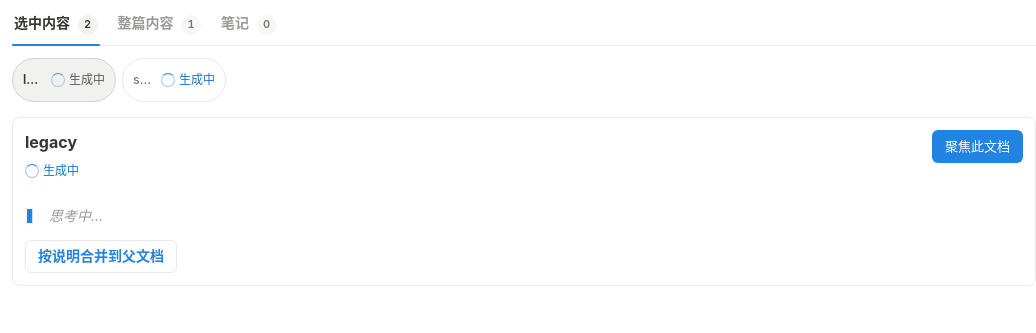
SubdocPanelTabs generation summary › separates direct selection, global, and legacy branches without showing descendants
Expected: the tab "选中内容 2" is shown, [12,12,100,45]
Expected: the tab "selection 生成中" is shown, [122,58,226,102]
Click the tab "整篇内容 1" at (159, 28), box [116,12,203,45]
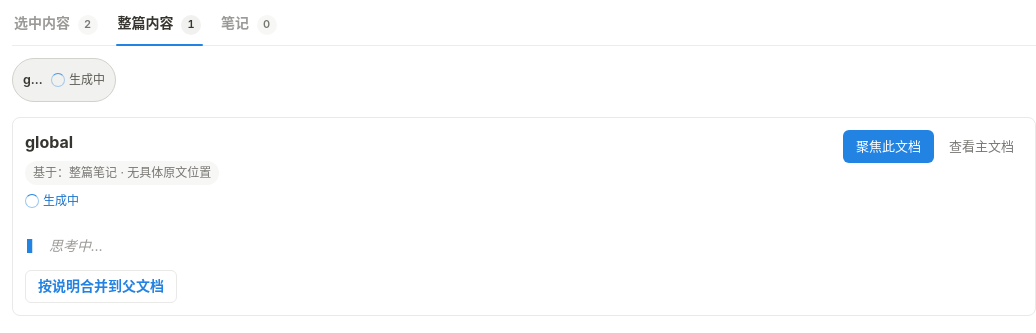
Now the tab "global 生成中" is shown, box [12,58,116,102]
Now the tab "selection" is gone
Now the text "基于：整篇笔记 · 无具体原文位置" is shown, box [25,161,219,185]
